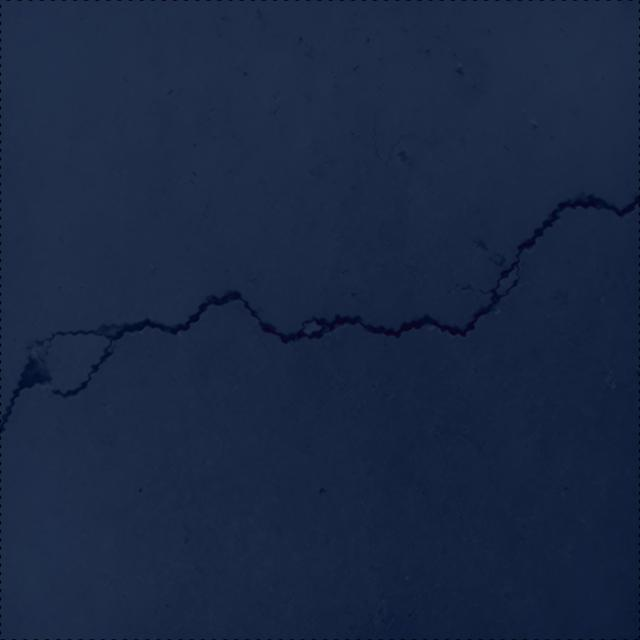crack: (0, 194, 640, 437)
